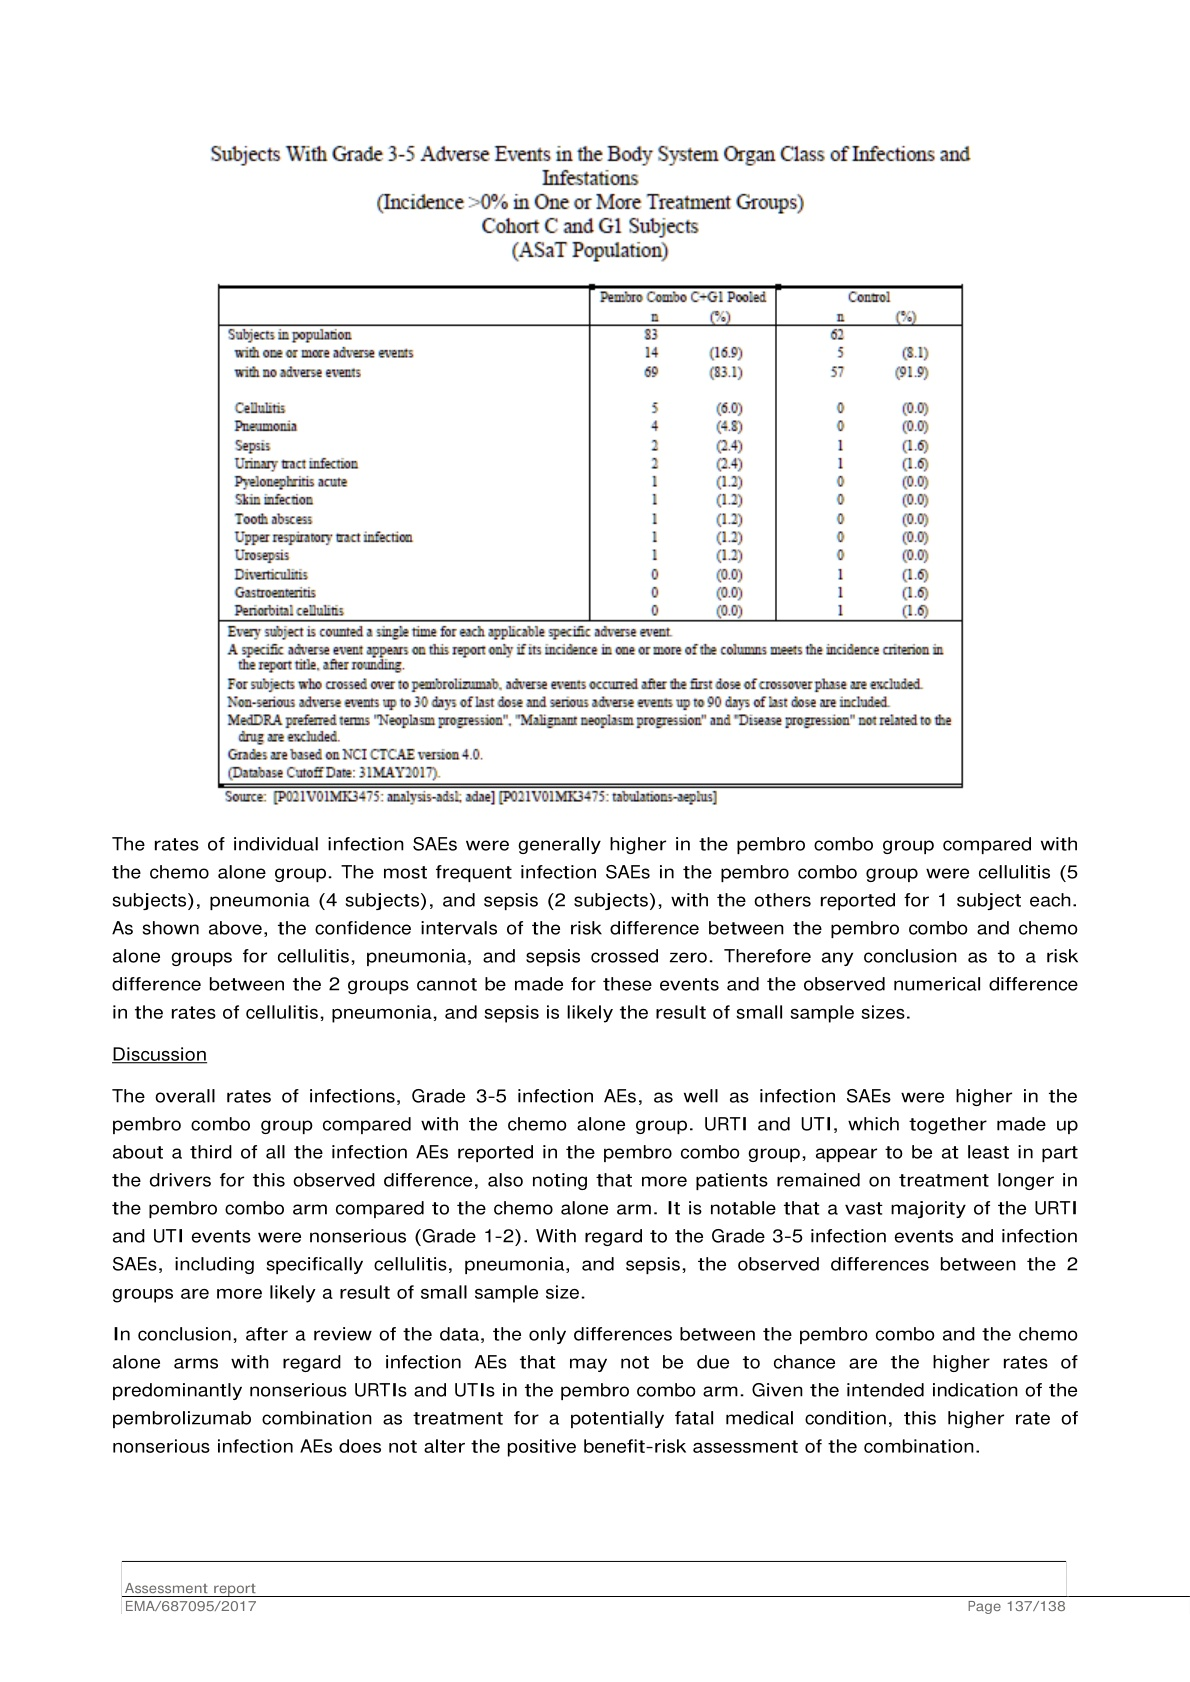partial_lined_merged_cells: (216, 283, 965, 789)
